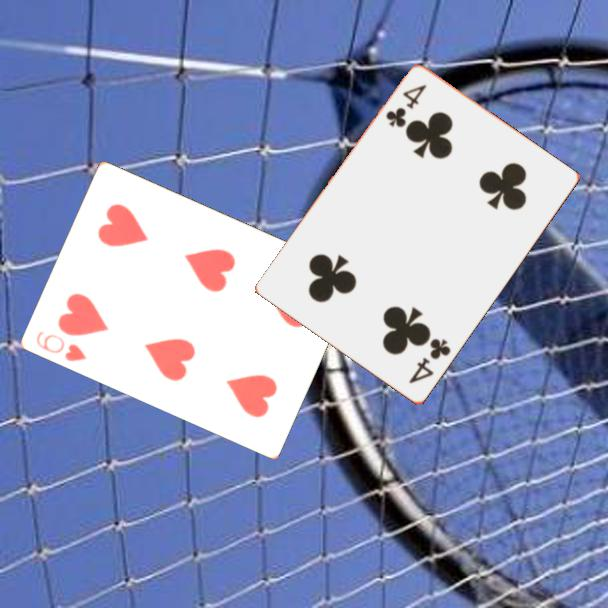c04: (405, 335, 454, 387), (382, 81, 430, 131)
h06: (33, 328, 90, 364)
